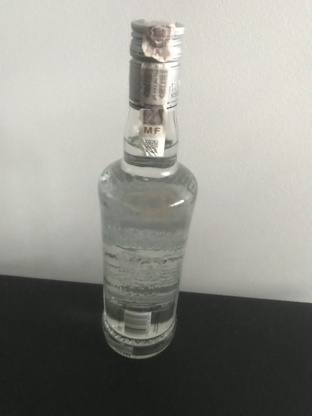nakretka: (126, 17, 186, 111)
